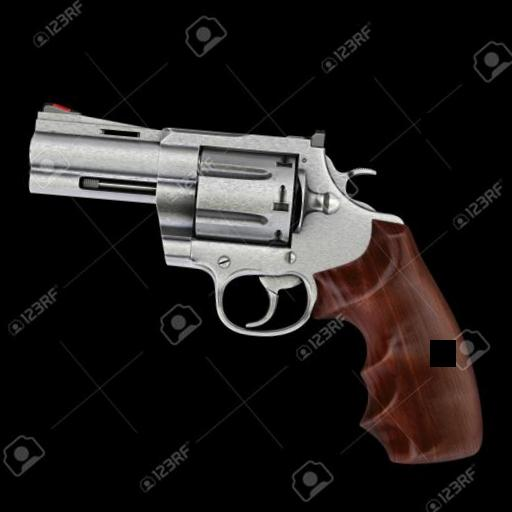Handgun: (4, 93, 510, 474)
